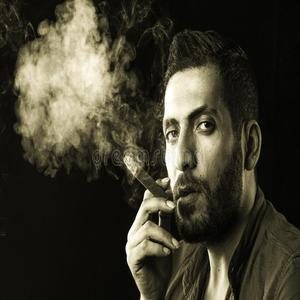cigarette: (124, 153, 166, 204)
